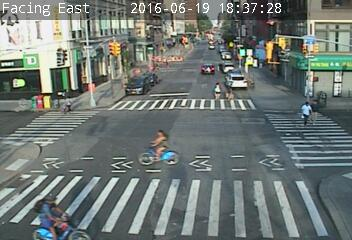neg: (35, 191, 71, 239), (139, 120, 175, 166), (242, 69, 261, 94), (165, 63, 177, 79)
pos: (309, 97, 332, 127), (290, 98, 310, 124), (220, 80, 236, 101), (206, 79, 221, 99), (63, 93, 75, 108)
